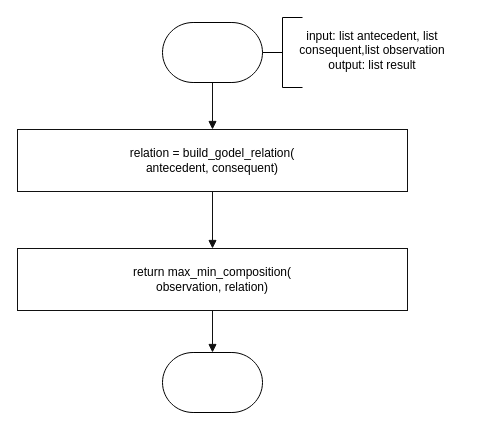
This 480x430 diagram has some shape labels left out. Here are the shapes that lost their labels. From the top down, the centre of each, then its label:
pixel 212 52: Начало
pixel 212 382: Конец
